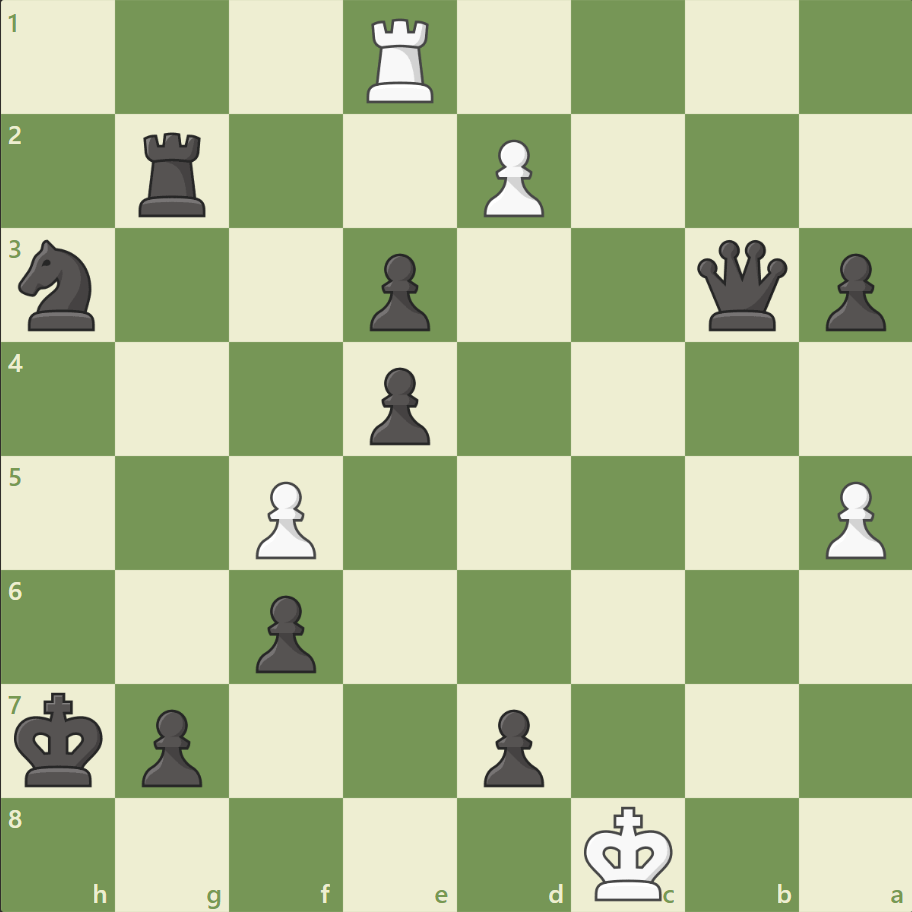K: (579, 798, 679, 906)
P: (247, 473, 322, 564), (474, 132, 549, 223), (815, 473, 889, 564)
R: (360, 12, 442, 109)
k: (11, 685, 111, 793)
n: (11, 234, 108, 337)
p: (474, 700, 549, 791), (133, 700, 208, 791), (247, 586, 322, 677), (361, 359, 435, 450), (815, 246, 889, 337), (361, 246, 435, 337)
q: (691, 236, 790, 335)
r: (133, 125, 215, 222)
